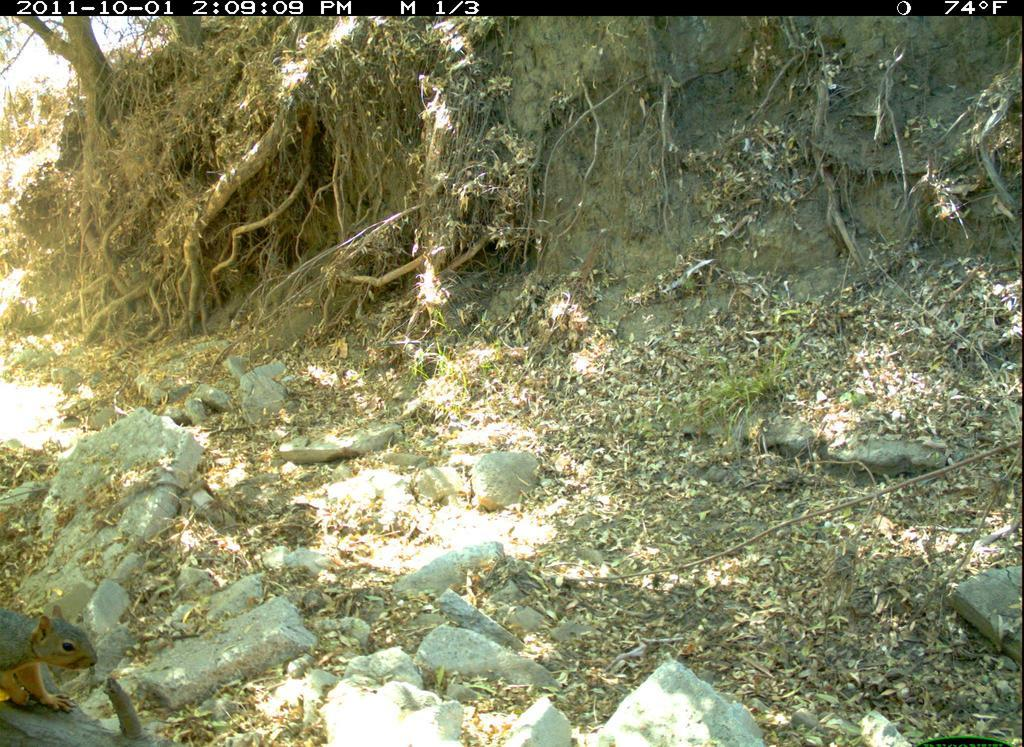squirrel: (1, 597, 105, 727)
